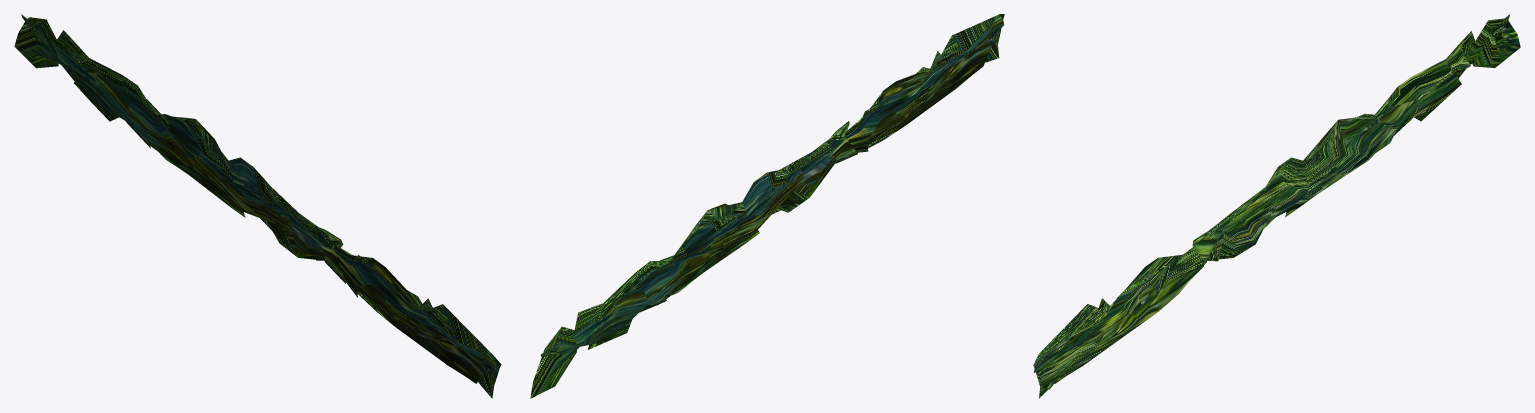
3 renders of one model, left to right at view 1: azimuth 30°, elevation 25°; view 2: azimuth 150°, elevation 25°; view 3: azimuth 330°, elevation 25°, orthographic. The views are drawn at different scales.
Visible parts, largest first — view 1: algae_cube_Cube; view 2: algae_cube_Cube; view 3: algae_cube_Cube.
Part boxes in pixels (<box>): algae_cube_Cube: <box>14,14,501,398</box>; algae_cube_Cube: <box>530,14,1004,398</box>; algae_cube_Cube: <box>1033,14,1520,398</box>.
Size of the model in its own units: 0.011 by 0.2406 by 3.28.
